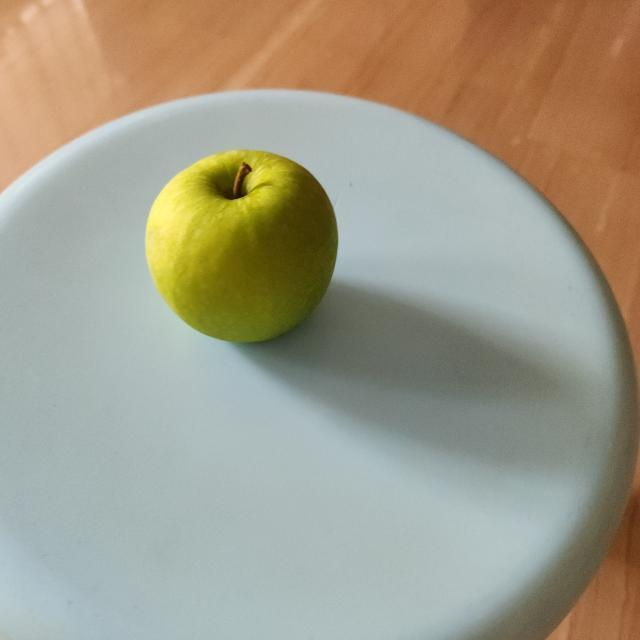apple: (134, 141, 344, 355)
